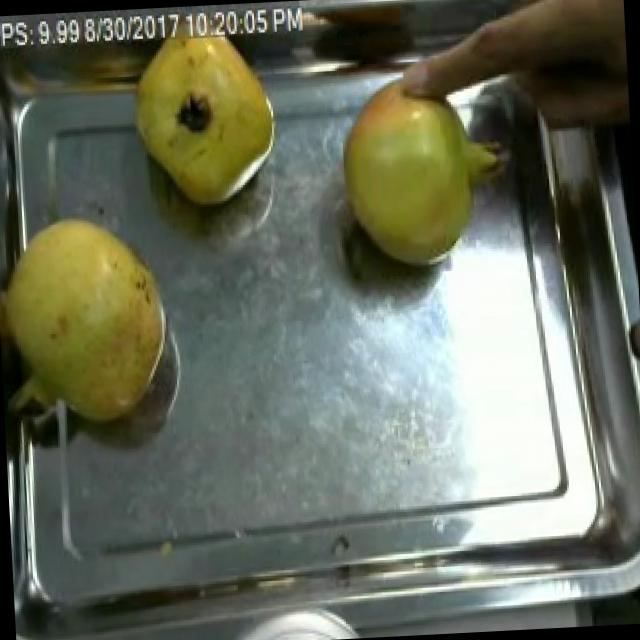fruit: (0, 198, 181, 440), (325, 64, 524, 282), (122, 17, 286, 218)
